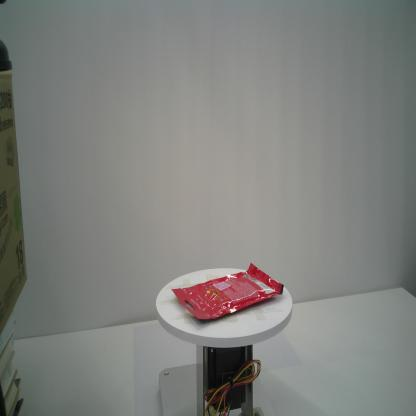Candy: (171, 258, 284, 324)
